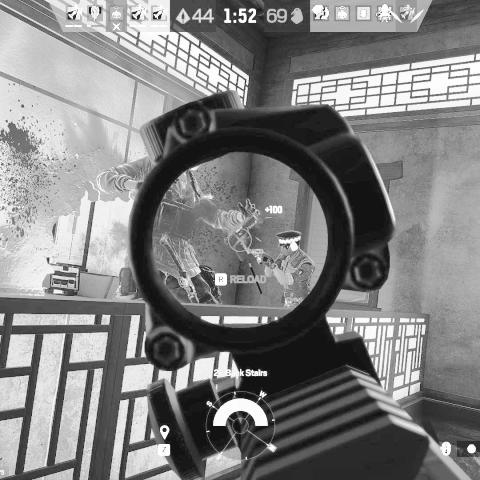Character: (96, 128, 260, 305), (246, 228, 320, 308)
Head: (276, 229, 303, 259)
